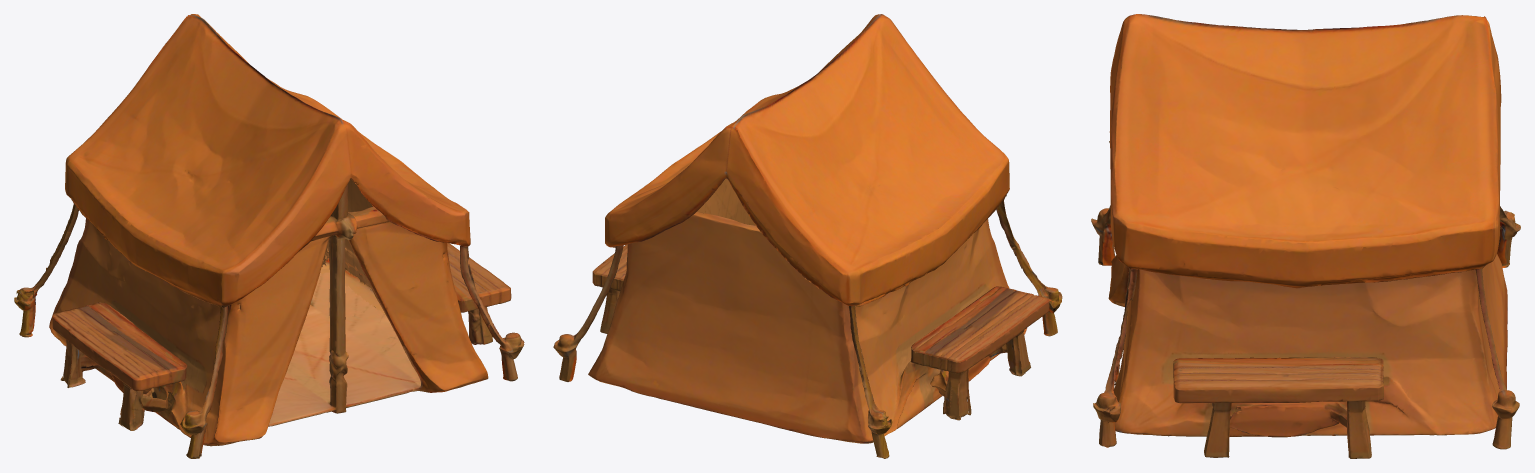
The model's file is tente.glb.
3 renders of one model, left to right at view 1: azimuth 30°, elevation 25°; view 2: azimuth 150°, elevation 25°; view 3: azimuth 270°, elevation 25°, orthographic. The views are drawn at different scales.
Bounding box in the file's own units: 1.99 × 1.48 × 1.67.
Materials: 1 (1 with a texture image).
